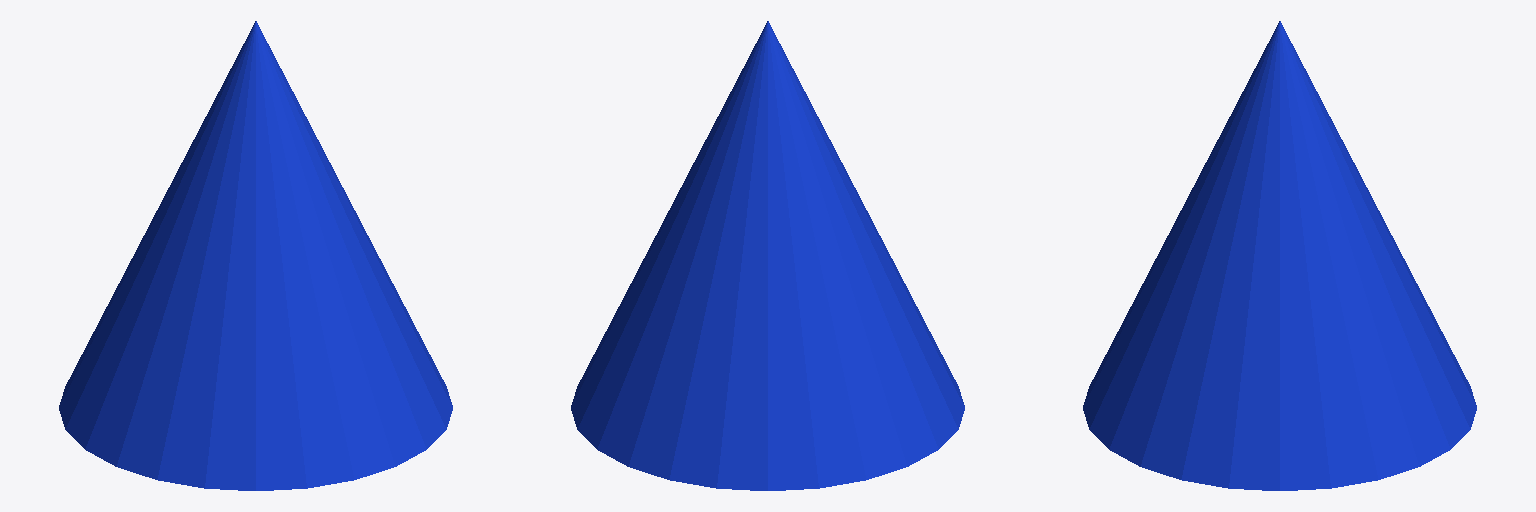
URDF robot description (blue_cone):
<?xml version="1.0"?>
<robot name="blue_cone">
  <link name="base_link">
    <contact>
      <lateral_friction value="0.9"/>
      <rolling_friction value="0.08"/>
      <spinning_friction value="0.06"/>
      <restitution value="0.0"/>
    </contact>
    <inertial>
      <origin rpy="0 0 0" xyz="0 0 0"/>
      <mass value="0.5"/>
      <inertia ixx="0.001" ixy="0" ixz="0" iyy="0.001" iyz="0" izz="0.001"/>
    </inertial>
    <visual>
      <origin rpy="0 0 0" xyz="0 0 0"/>
      <geometry>
        <mesh filename="cone.obj" scale="1 1 1"/>
      </geometry>
      <material name="blue">
        <color rgba="0.150 0.320 0.880 1.000"/>
      </material>
    </visual>
    <collision>
      <origin rpy="0 0 0" xyz="0 0 0"/>
      <geometry>
        <mesh filename="cone.obj" scale="1 1 1"/>
      </geometry>
    </collision>
  </link>
</robot>

--- Render facts (derived) ---
3 views of the same robot in one strip: view 1: azimuth 30°, elevation 25°; view 2: azimuth 150°, elevation 25°; view 3: azimuth 270°, elevation 25° (orthographic).
Robot: blue_cone — 1 links, 0 joints (none); root link base_link; default pose: every joint at zero.
Visible links, largest first — view 1: base_link; view 2: base_link; view 3: base_link.
Boxes of the visible links, x1,y1,x2,y2 form: base_link: [59, 21, 452, 490]; base_link: [571, 21, 964, 490]; base_link: [1083, 21, 1476, 490].
Bounding box of the posed robot: 0.12 × 0.12 × 0.13 m (x, y, z).
Meshes: 1 distinct files referenced, 1 mesh visuals loaded (1 OBJ).
